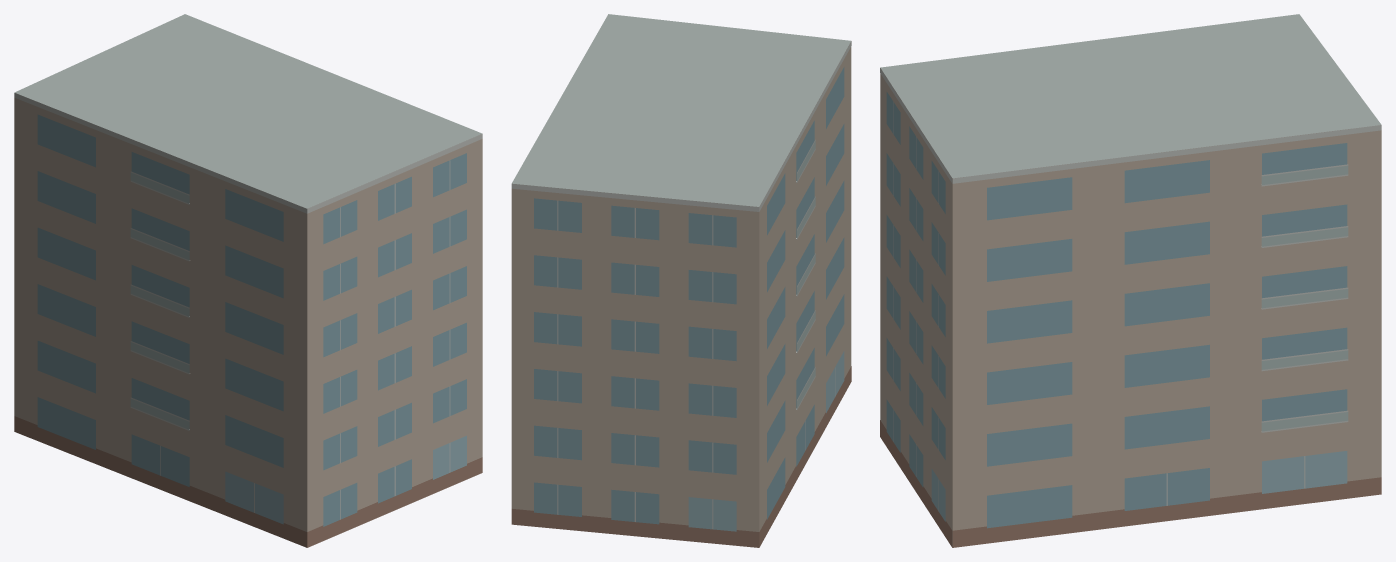
Rendered from survey-upis-32995432.glb.
The picture shows the model from 3 angles, left to right: view 1: azimuth 30°, elevation 25°; view 2: azimuth 150°, elevation 25°; view 3: azimuth 270°, elevation 25°; orthographic projection. The views are drawn at different scales.
Visible parts, largest first — view 1: survey-upis-32995432.tmp; view 2: survey-upis-32995432.tmp; view 3: survey-upis-32995432.tmp.
Boxes of the visible parts, left/top/right/bottom form: survey-upis-32995432.tmp: left=14, top=14, right=482, bottom=547; survey-upis-32995432.tmp: left=511, top=14, right=851, bottom=547; survey-upis-32995432.tmp: left=880, top=14, right=1381, bottom=547.
Bounding box in the file's own units: 15.86 × 16.6 × 20.43.
